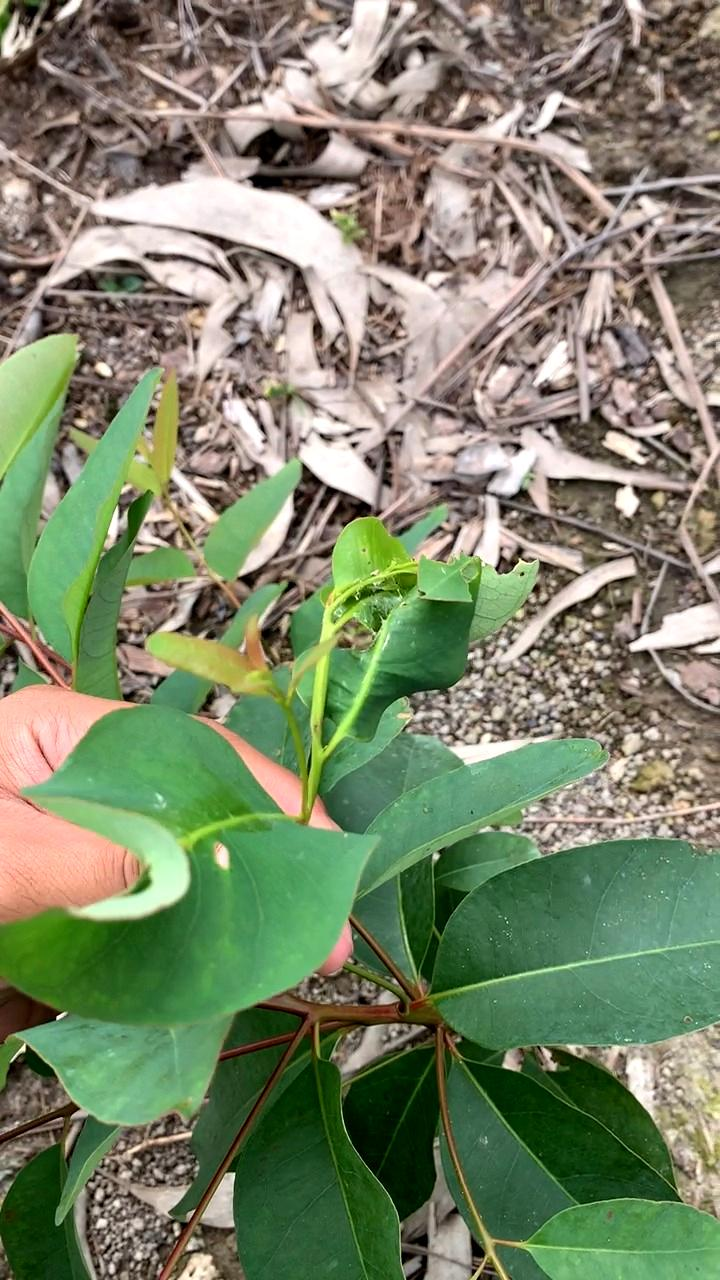Leaf Roller - Leaf: (318, 520, 543, 755)
